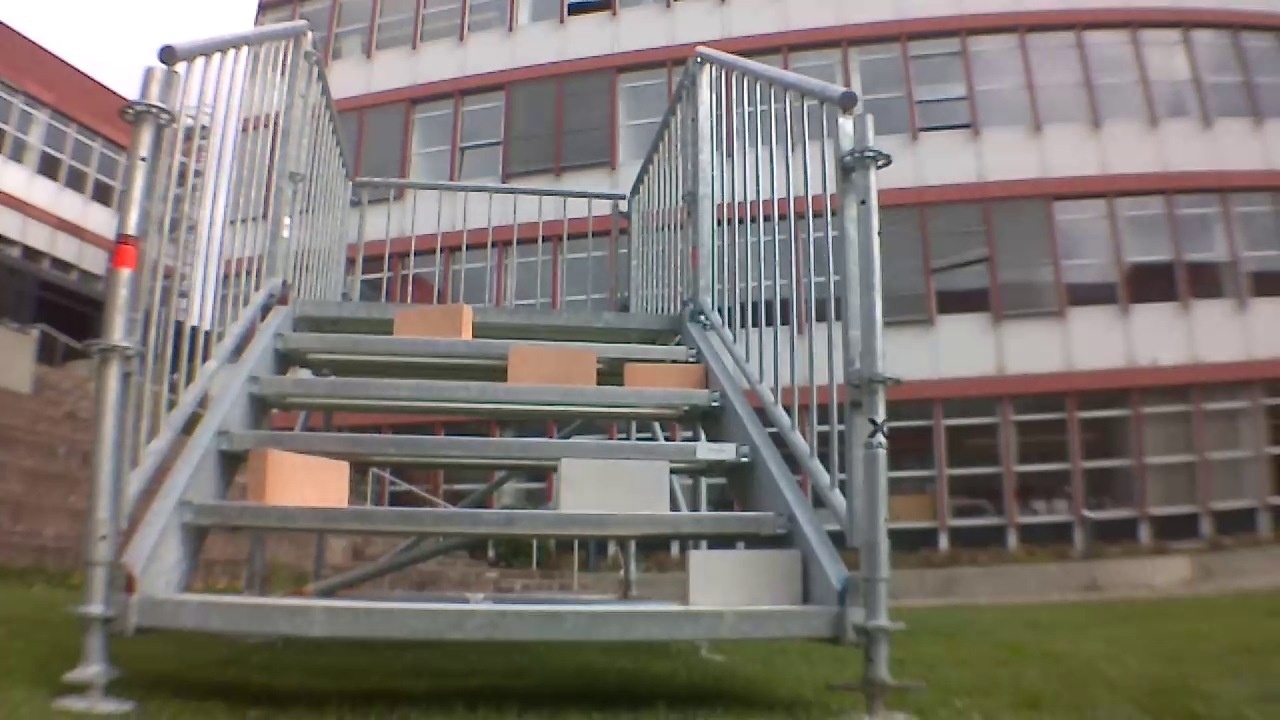brick: (687, 548, 803, 605), (247, 446, 349, 508), (559, 458, 667, 512), (509, 346, 596, 385), (393, 305, 472, 338), (622, 363, 702, 390)
edge: (137, 595, 837, 636), (180, 501, 786, 532), (220, 428, 751, 461), (247, 376, 721, 407), (272, 332, 699, 359), (295, 298, 677, 328)
stairs: (61, 19, 921, 717)
steps: (133, 293, 843, 643)
